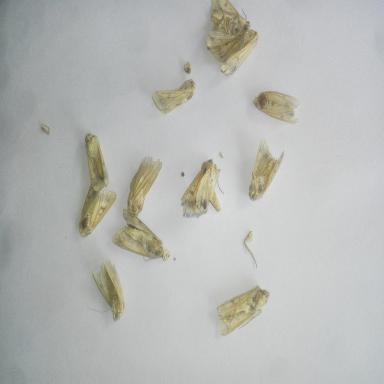abw: (111, 202, 170, 264), (178, 152, 230, 221), (212, 281, 272, 339), (206, 24, 262, 79), (246, 133, 289, 204), (125, 150, 166, 223), (76, 178, 121, 242), (88, 255, 128, 326), (204, 1, 254, 53), (80, 127, 114, 199), (148, 76, 199, 118), (251, 86, 304, 126)
